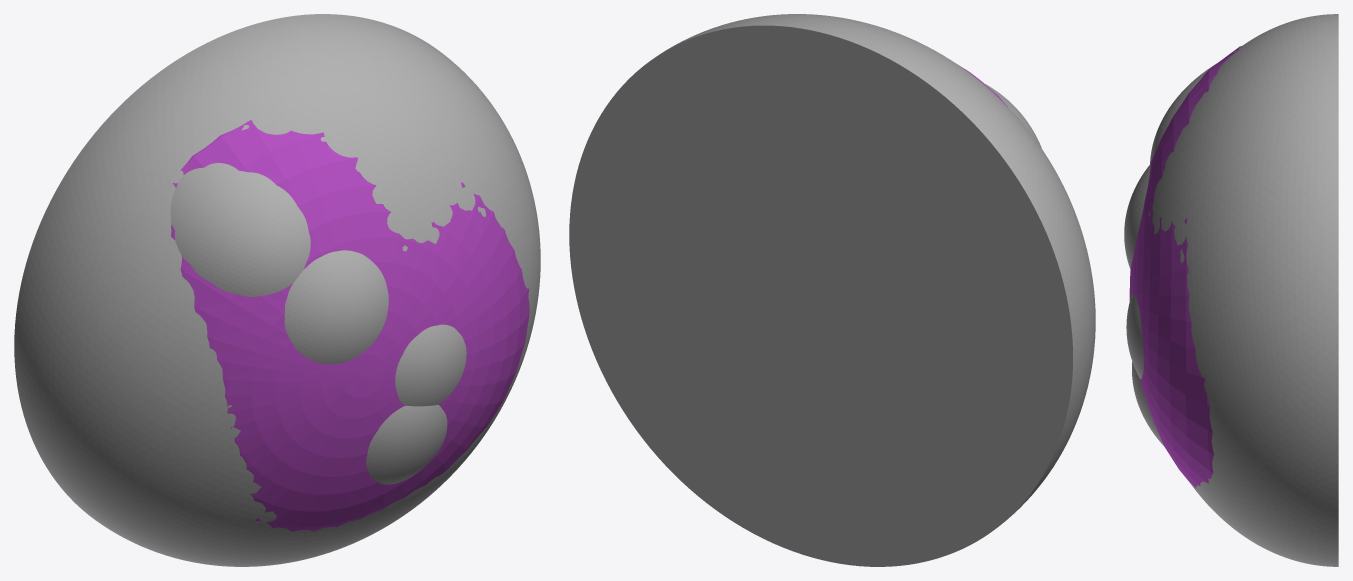
File: G05_INITIAL_GT_ALIGNED.glb
3 renders of one model, left to right at view 1: azimuth 30°, elevation 25°; view 2: azimuth 150°, elevation 25°; view 3: azimuth 270°, elevation 25°, orthographic. The views are drawn at different scales.
Visible parts, largest first — view 1: GT, INITIAL_ALIGNED_EVALUATION_ONLY; view 2: GT; view 3: GT, INITIAL_ALIGNED_EVALUATION_ONLY.
Boxes of the visible parts, <box> form: GT: <box>14,14,540,566</box>; INITIAL_ALIGNED_EVALUATION_ONLY: <box>169,120,529,531</box>; GT: <box>569,14,1095,566</box>; GT: <box>1124,14,1338,566</box>; INITIAL_ALIGNED_EVALUATION_ONLY: <box>1129,46,1241,488</box>.
Bounding box in the file's own units: 0.018 × 0.018 × 0.00699.
